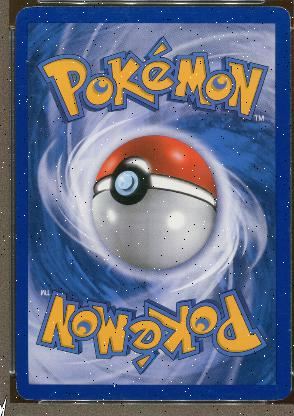Card: (15, 5, 291, 401)
Corner Wear: (15, 6, 30, 23), (15, 382, 26, 400), (277, 6, 290, 16)
Edge Wear: (66, 5, 194, 7), (288, 317, 291, 391), (26, 398, 99, 400), (214, 399, 281, 401), (217, 5, 280, 7), (25, 6, 53, 8), (288, 166, 291, 182), (15, 280, 16, 296), (15, 232, 17, 238)
Scratch: (29, 92, 38, 104), (25, 57, 36, 62), (29, 72, 32, 74)
